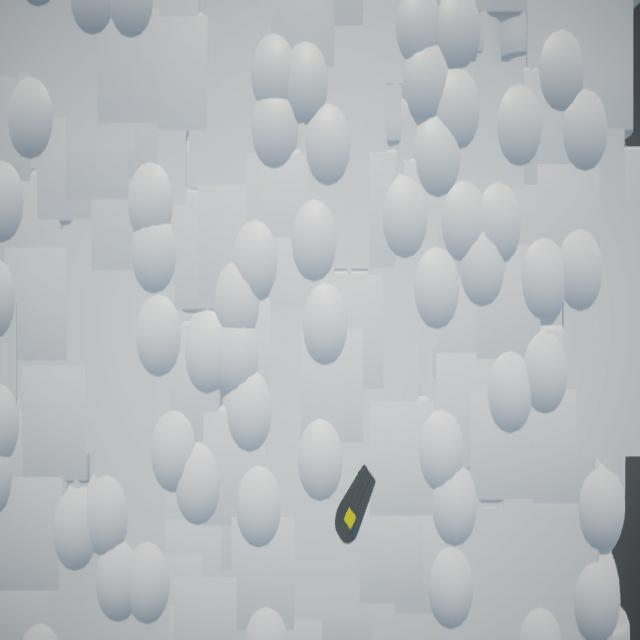handle_folk: (336, 465, 377, 546)
